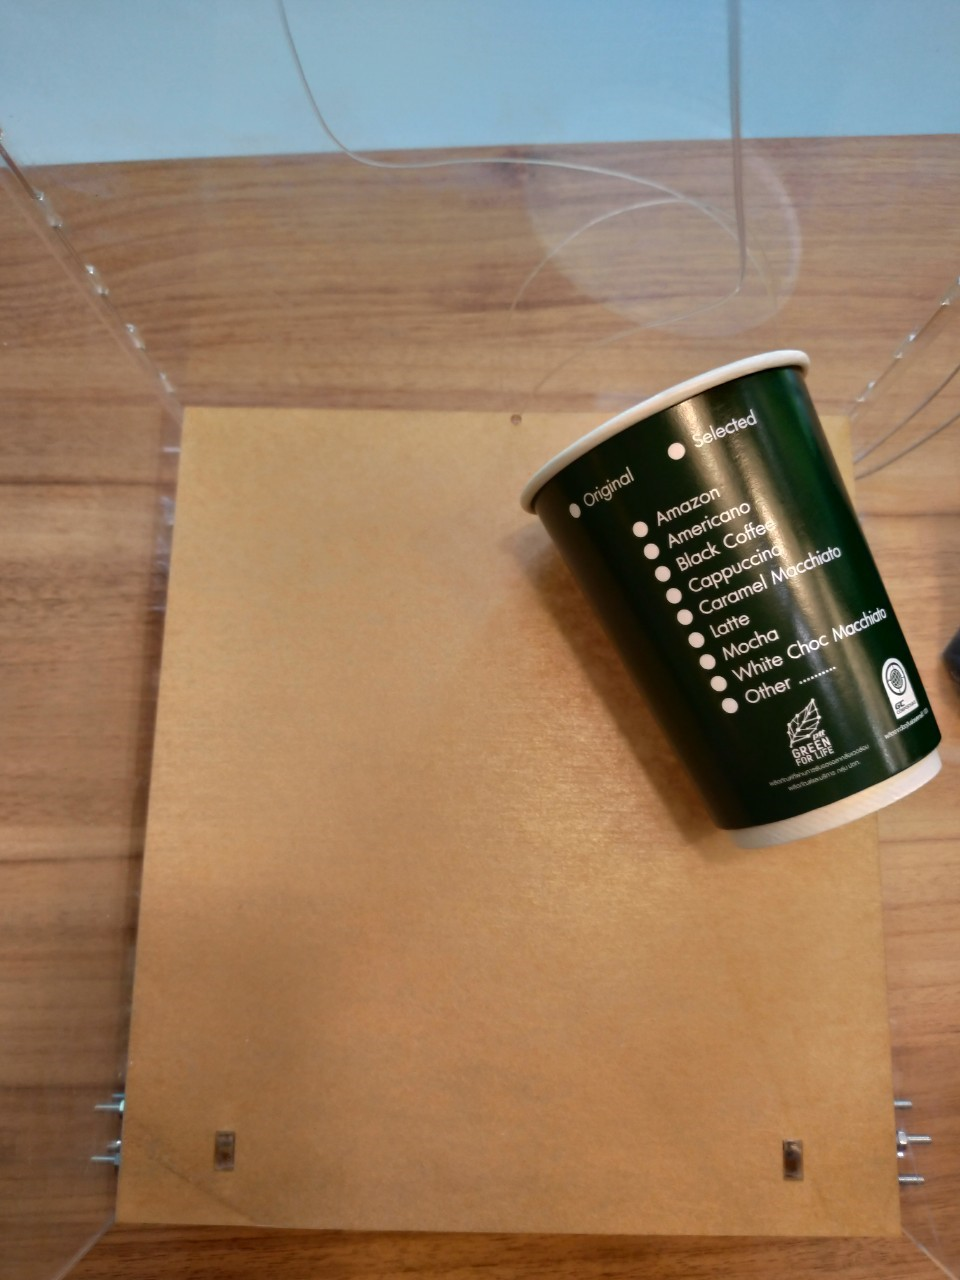PaperCup: (518, 347, 943, 851)
